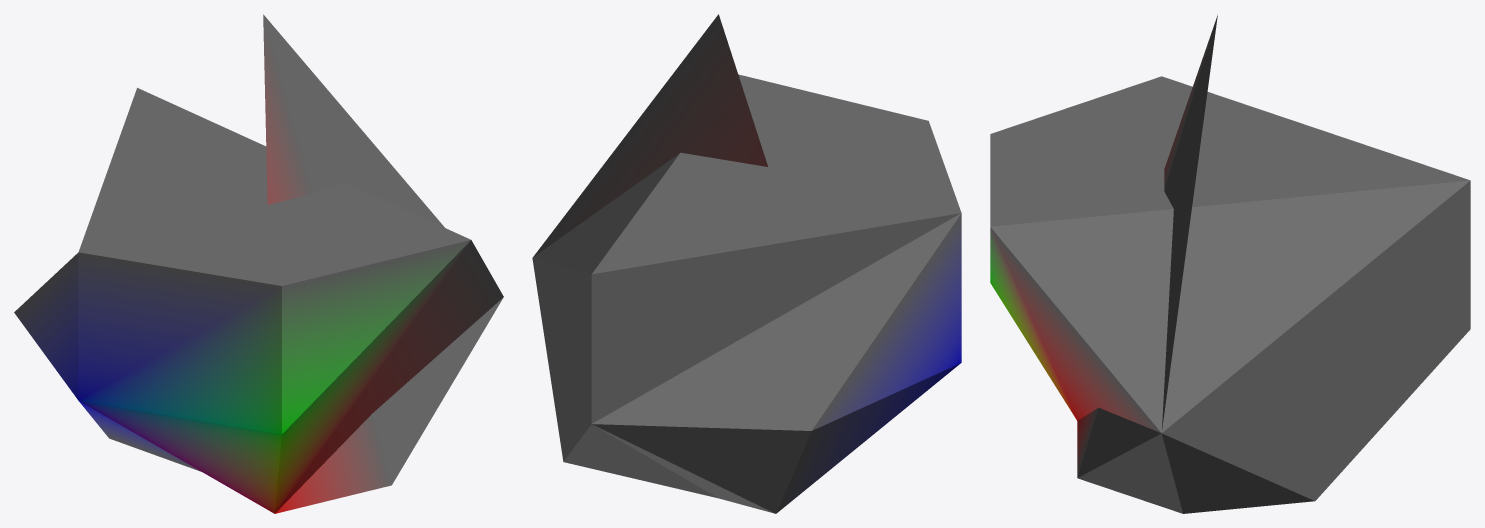
File: gate_re_cleaning_conquest_23.obj
The picture shows the model from 3 angles, left to right: view 1: azimuth 30°, elevation 25°; view 2: azimuth 150°, elevation 25°; view 3: azimuth 270°, elevation 25°; orthographic projection.
Bounding box in the file's own units: 1.85 × 2 × 1.81.
